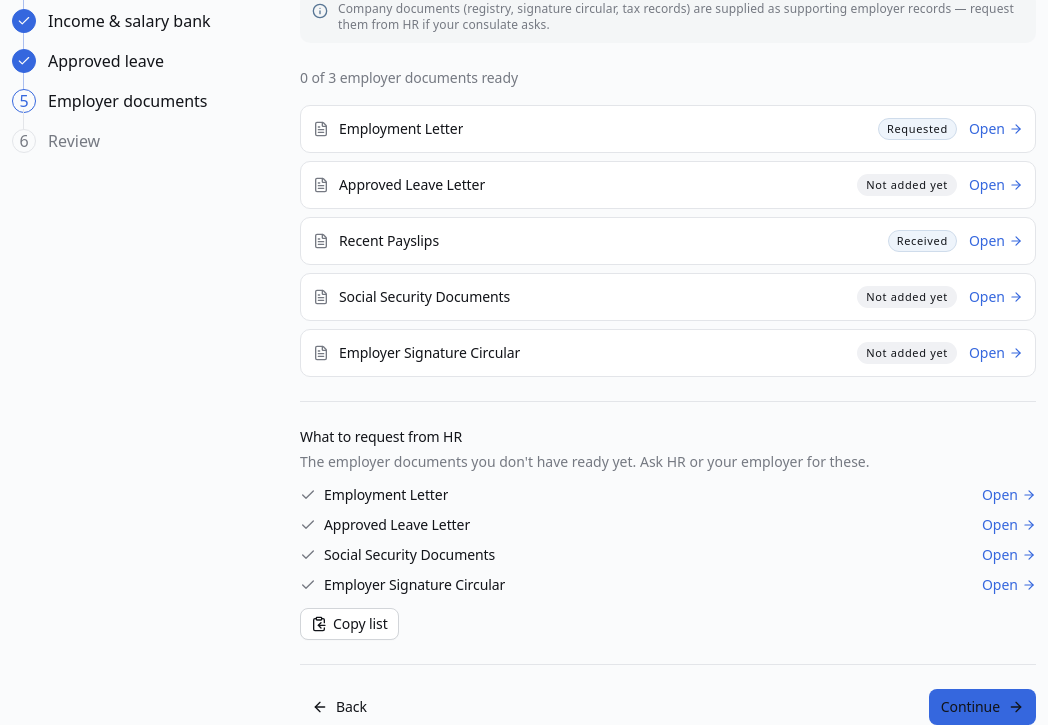
it: Employment — HR request copy › copies the localized document names with accessible feedback
This screenshot has width=1048, height=725.
(page scrolled)
Click the button "Copy list". click: [349, 624]
box: [300, 608, 399, 640]
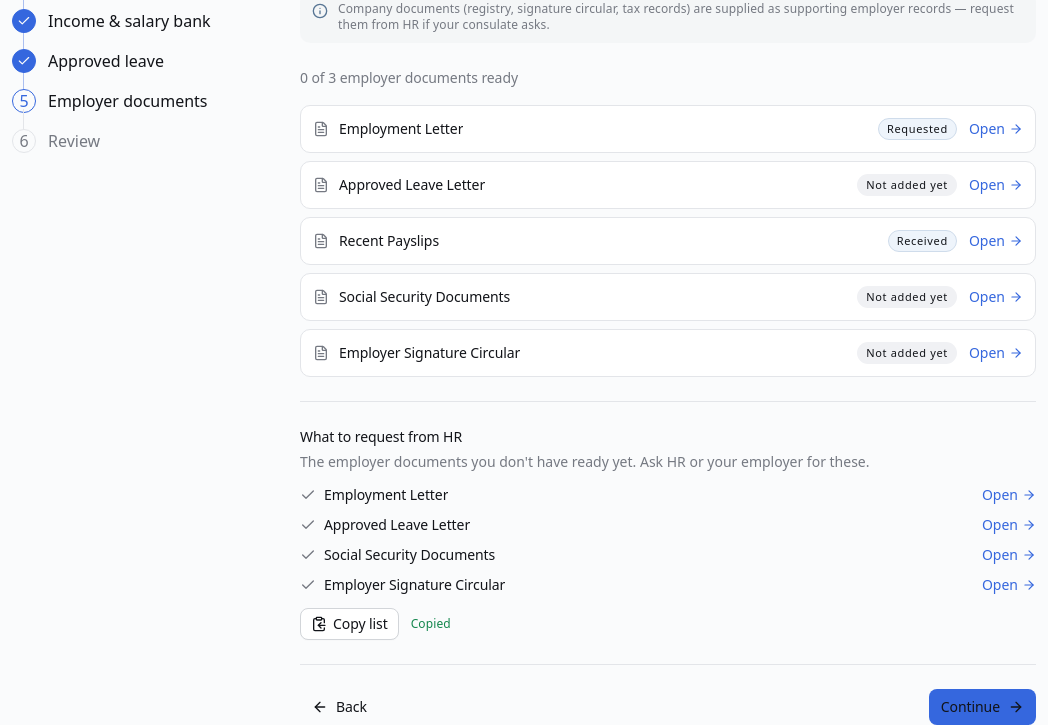
Result: the text "Copied" is shown at [411, 616, 451, 632]
